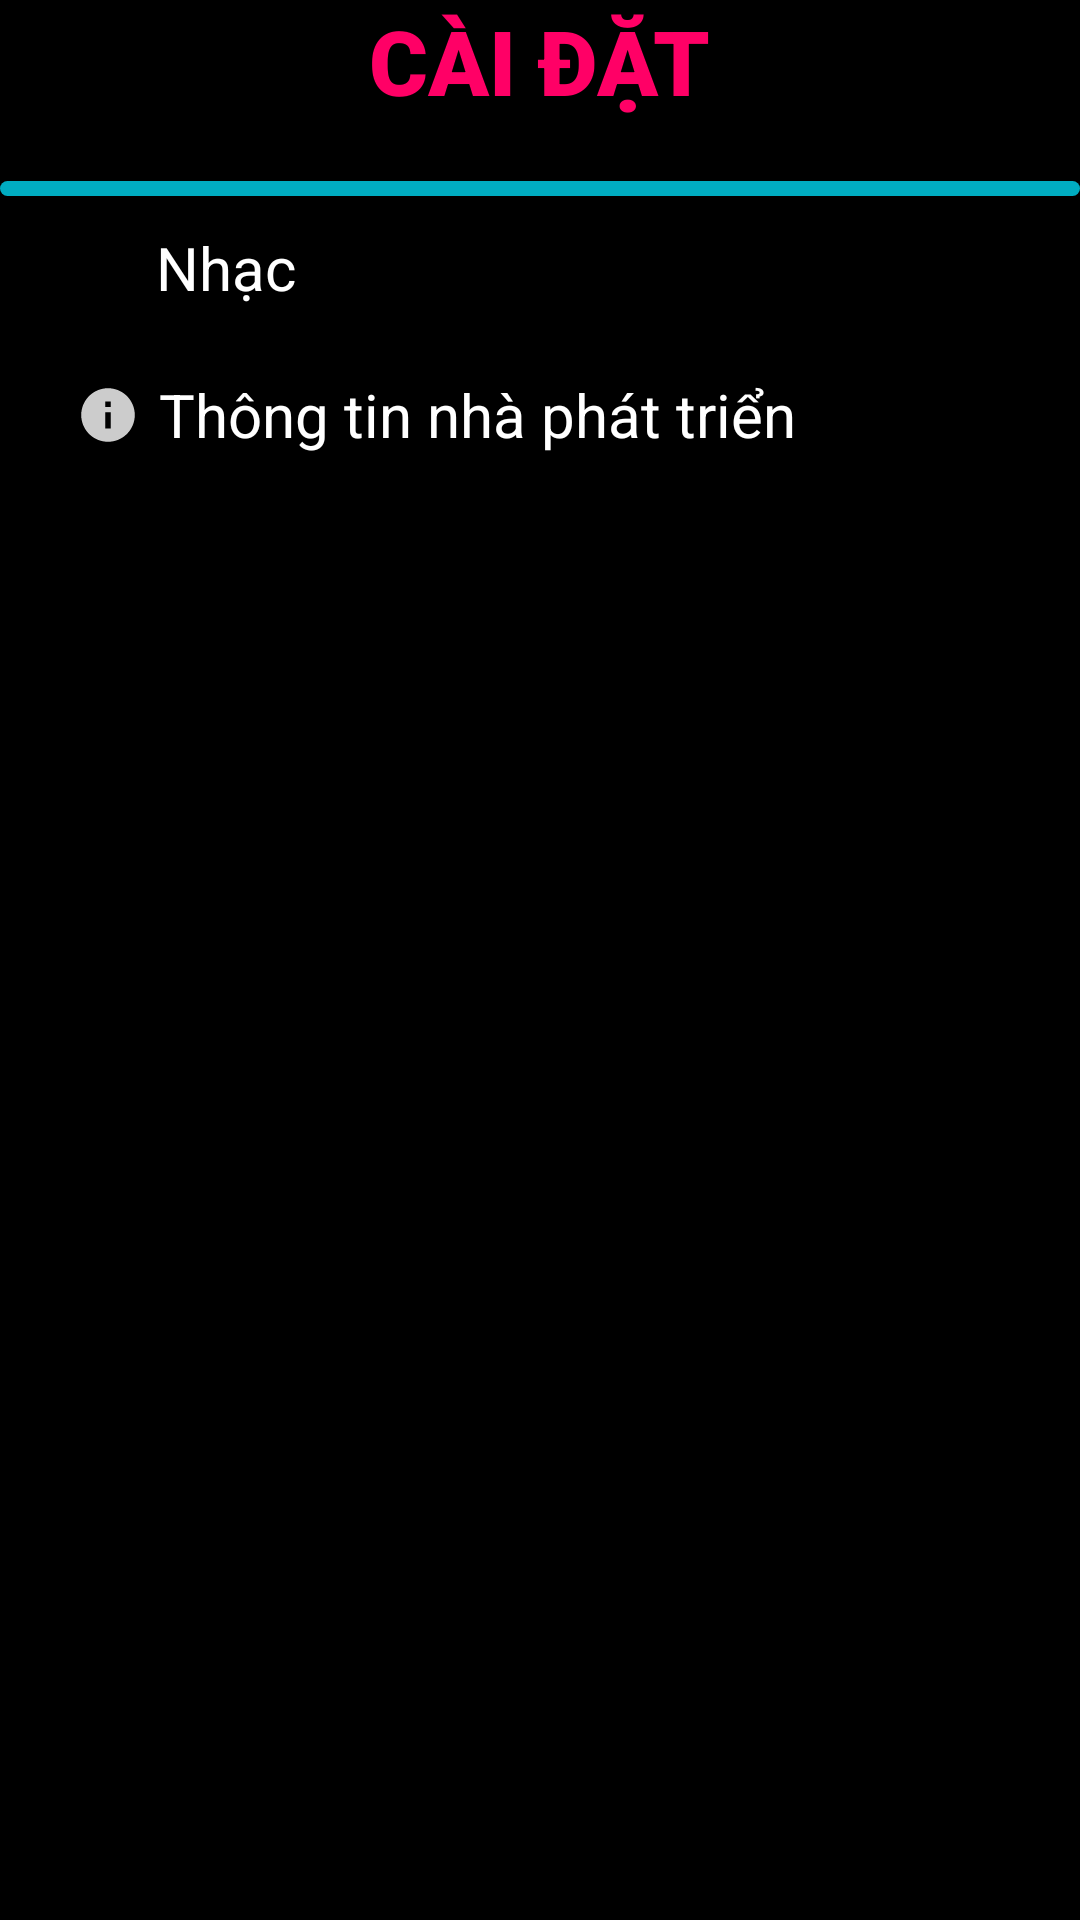

Icon bounding boxes for this 1080 x 1920 phone screenshot, format [x1,y1,x2,y2]:
info: [81,388,135,442]
